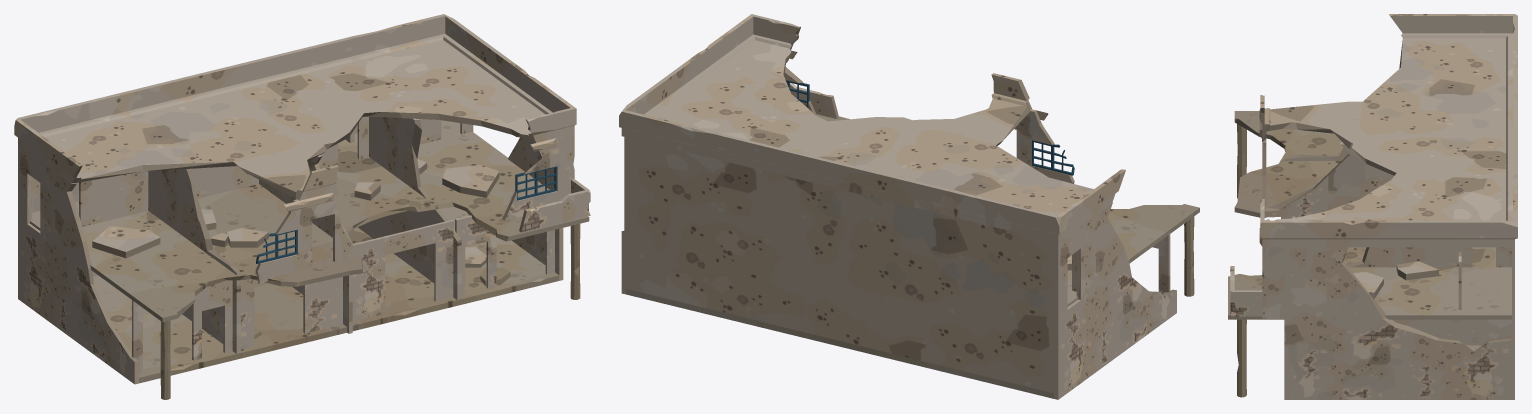
Rendered from SM_Bld_Shop_08_Destroyed.fbx.
3 renders of one model, left to right at view 1: azimuth 30°, elevation 25°; view 2: azimuth 150°, elevation 25°; view 3: azimuth 270°, elevation 25°, orthographic. The views are drawn at different scales.
Visible parts, largest first — view 1: SM_Bld_Shop_08_Destroyed; view 2: SM_Bld_Shop_08_Destroyed; view 3: SM_Bld_Shop_08_Destroyed.
Part boxes in pixels (<box>): SM_Bld_Shop_08_Destroyed: <box>14,14,590,399</box>; SM_Bld_Shop_08_Destroyed: <box>619,14,1199,399</box>; SM_Bld_Shop_08_Destroyed: <box>1228,14,1517,399</box>.
Size of the model in its own units: 2140 by 850 by 1256.
